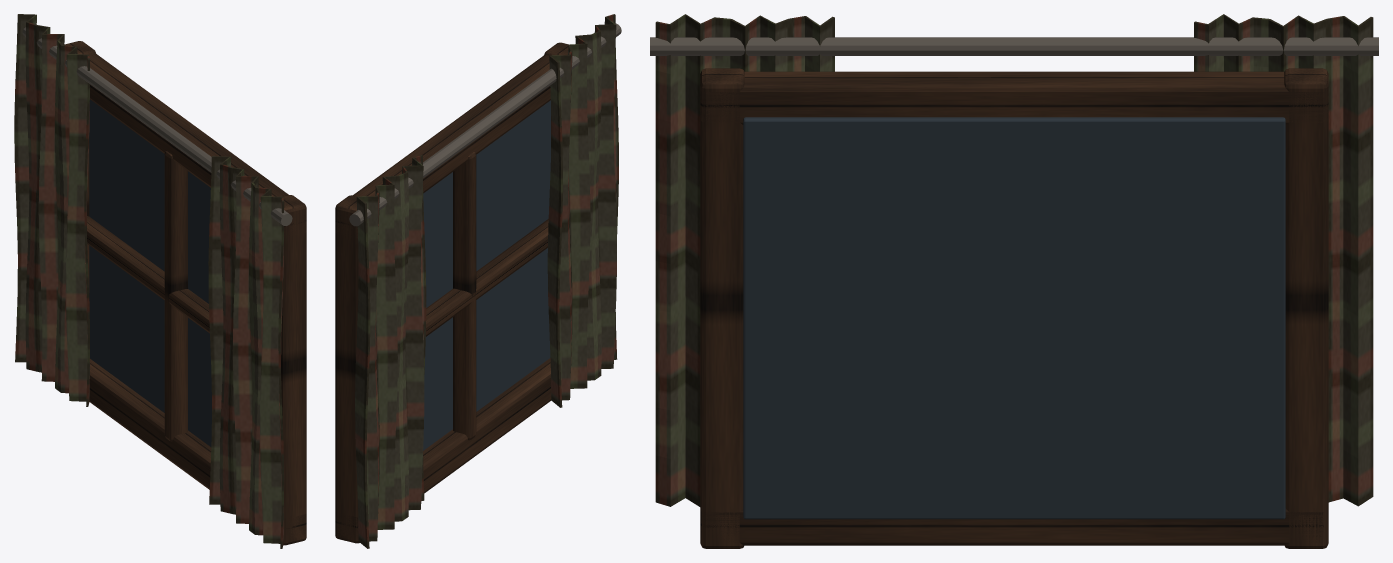
The model's file is curtained-window.glb.
3 renders of one model, left to right at view 1: azimuth 30°, elevation 25°; view 2: azimuth 150°, elevation 25°; view 3: azimuth 270°, elevation 25°, orthographic. The views are drawn at different scales.
Visible parts, largest first — view 1: SM_lonely_house_curtained_window_DirtyCurtainPlaid, SM_lonely_house_curtained_window_DarkWood, SM_WindowDarkGlass, SM_CurtainRod; view 2: SM_lonely_house_curtained_window_DirtyCurtainPlaid, SM_lonely_house_curtained_window_DarkWood, SM_WindowDarkGlass, SM_CurtainRod; view 3: SM_WindowDarkGlass, SM_lonely_house_curtained_window_DarkWood, SM_lonely_house_curtained_window_DirtyCurtainPlaid, SM_CurtainRod.
Part boxes in pixels (left/top/right/bottom): SM_lonely_house_curtained_window_DirtyCurtainPlaid: left=14, top=14, right=284, bottom=548; SM_lonely_house_curtained_window_DarkWood: left=64, top=41, right=306, bottom=545; SM_WindowDarkGlass: left=89, top=99, right=211, bottom=446; SM_CurtainRod: left=22, top=27, right=292, bottom=225; SM_lonely_house_curtained_window_DirtyCurtainPlaid: left=355, top=14, right=618, bottom=548; SM_lonely_house_curtained_window_DarkWood: left=335, top=42, right=568, bottom=543; SM_WindowDarkGlass: left=423, top=100, right=550, bottom=450; SM_CurtainRod: left=349, top=23, right=621, bottom=226; SM_WindowDarkGlass: left=743, top=117, right=1285, bottom=519; SM_lonely_house_curtained_window_DarkWood: left=700, top=68, right=1328, bottom=548; SM_lonely_house_curtained_window_DirtyCurtainPlaid: left=655, top=14, right=1373, bottom=506; SM_CurtainRod: left=650, top=37, right=1378, bottom=55.
Size of the model in its own units: 0.2482 by 1.48 by 1.95.
Materials: 4 (2 with a texture image).
